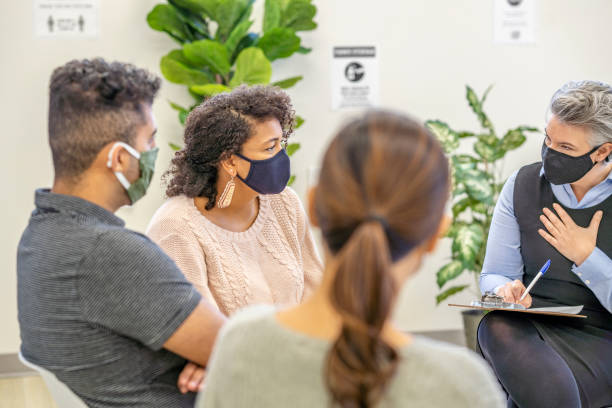with mask: (43, 58, 164, 210), (186, 93, 295, 199), (531, 84, 611, 189)
